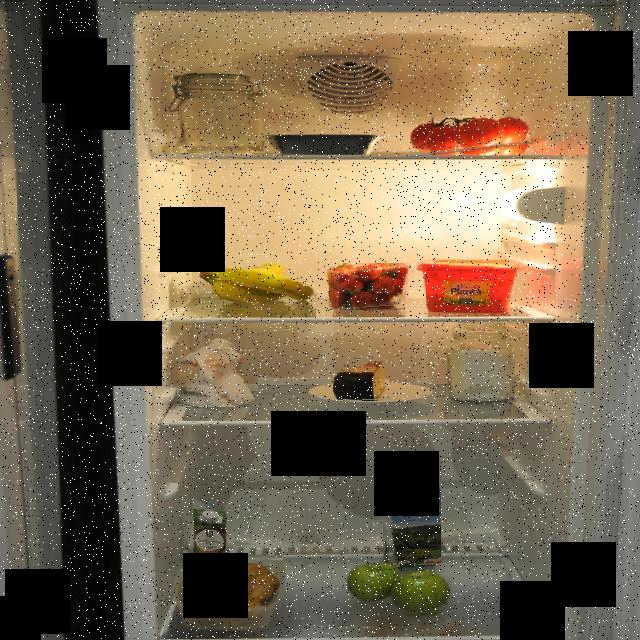apple: (340, 563, 452, 618)
banana: (185, 262, 320, 312)
butter: (426, 260, 517, 312)
cheese: (333, 361, 389, 402)
flour: (162, 66, 265, 153), (174, 339, 258, 407)
heavy_cream: (191, 504, 233, 574)
milk: (378, 472, 441, 574)
potato: (184, 548, 284, 633)
strawberries: (322, 263, 412, 311)
sugar: (439, 324, 520, 404)
tomato: (404, 116, 530, 158)
